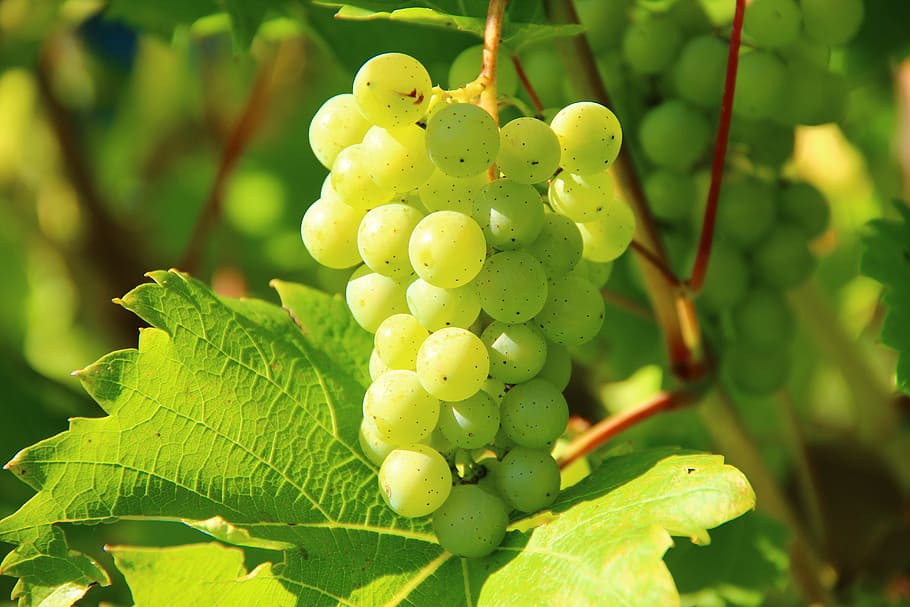grapes: (311, 28, 620, 567)
